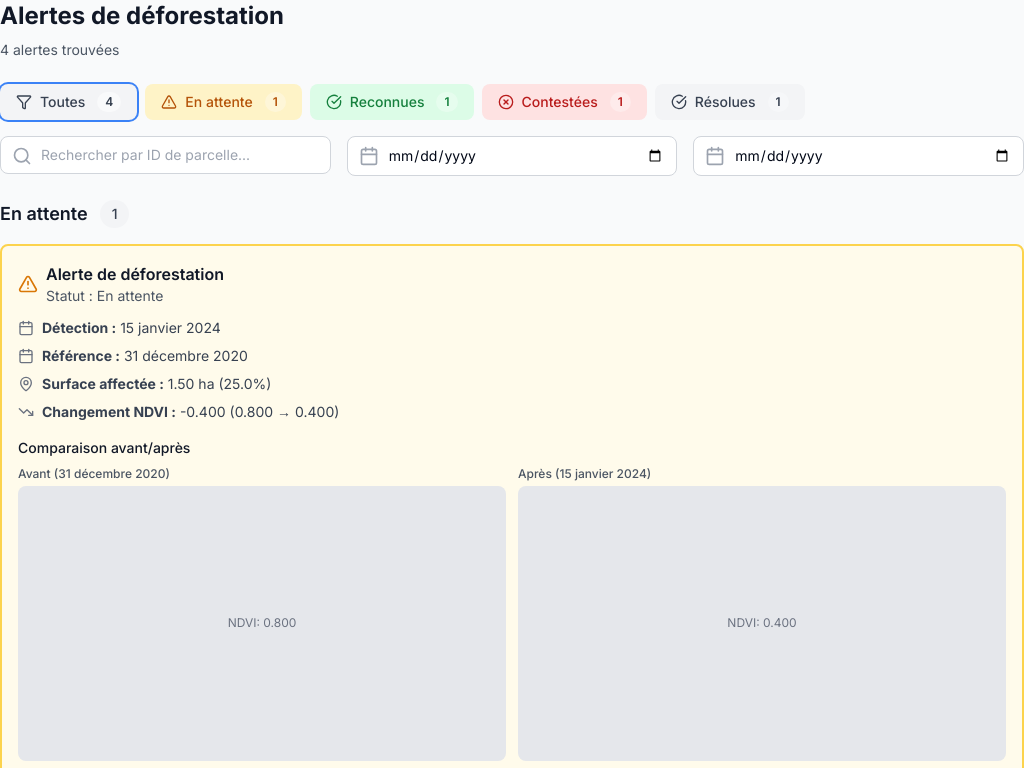
Test case: DeforestationAlertList › Search Functionality › should show empty state when search has no results
This screenshot has width=1024, height=768.
In the field with placeholder "Rechercher par ID de parcelle...": [165, 155] box [0,136,331,174], type "nonexistent"
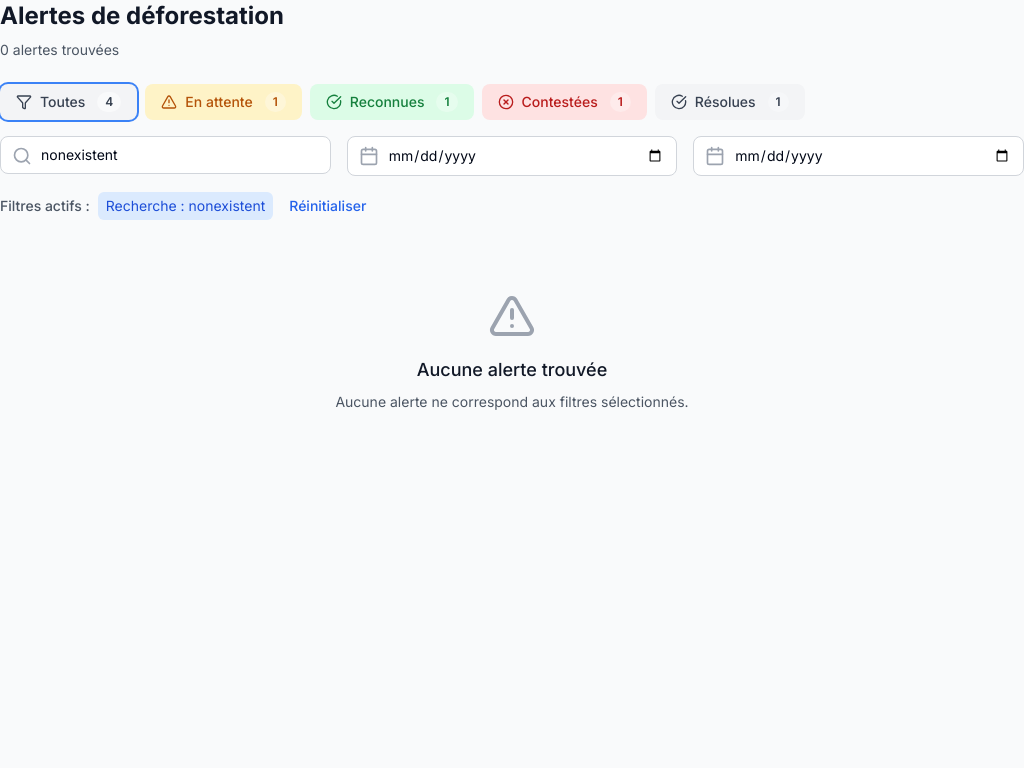
expect the heading "Aucune alerte trouvée" is shown: met, box [417,359,607,380]
expect the text "Aucune alerte ne correspond aux filtres sélectionnés." is shown: met, box [335,393,689,410]
